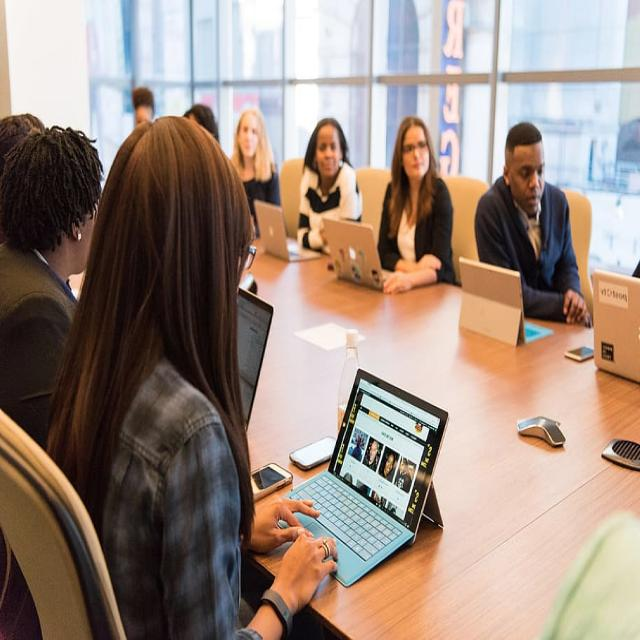adult: (64, 116, 337, 640), (475, 124, 587, 328), (374, 116, 455, 298), (296, 119, 358, 256), (229, 104, 279, 232)
